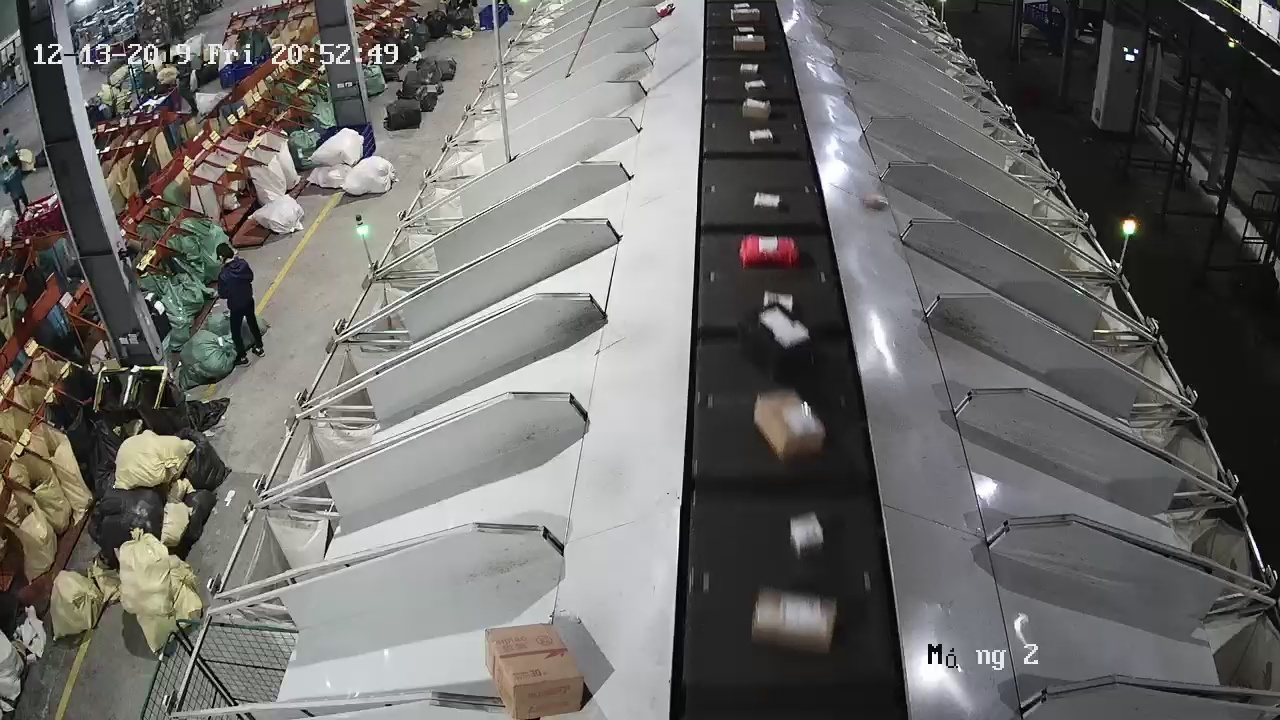parcel: (862, 190, 890, 211)
